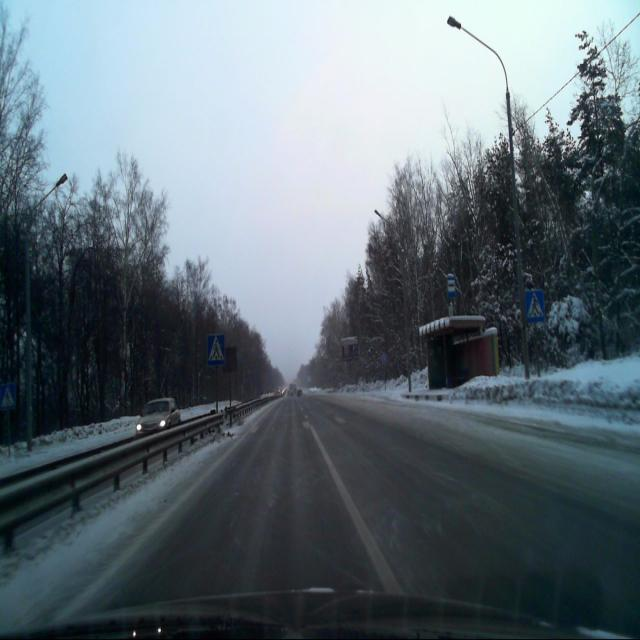road sign: (524, 289, 545, 324), (208, 334, 224, 367), (446, 274, 456, 297)
